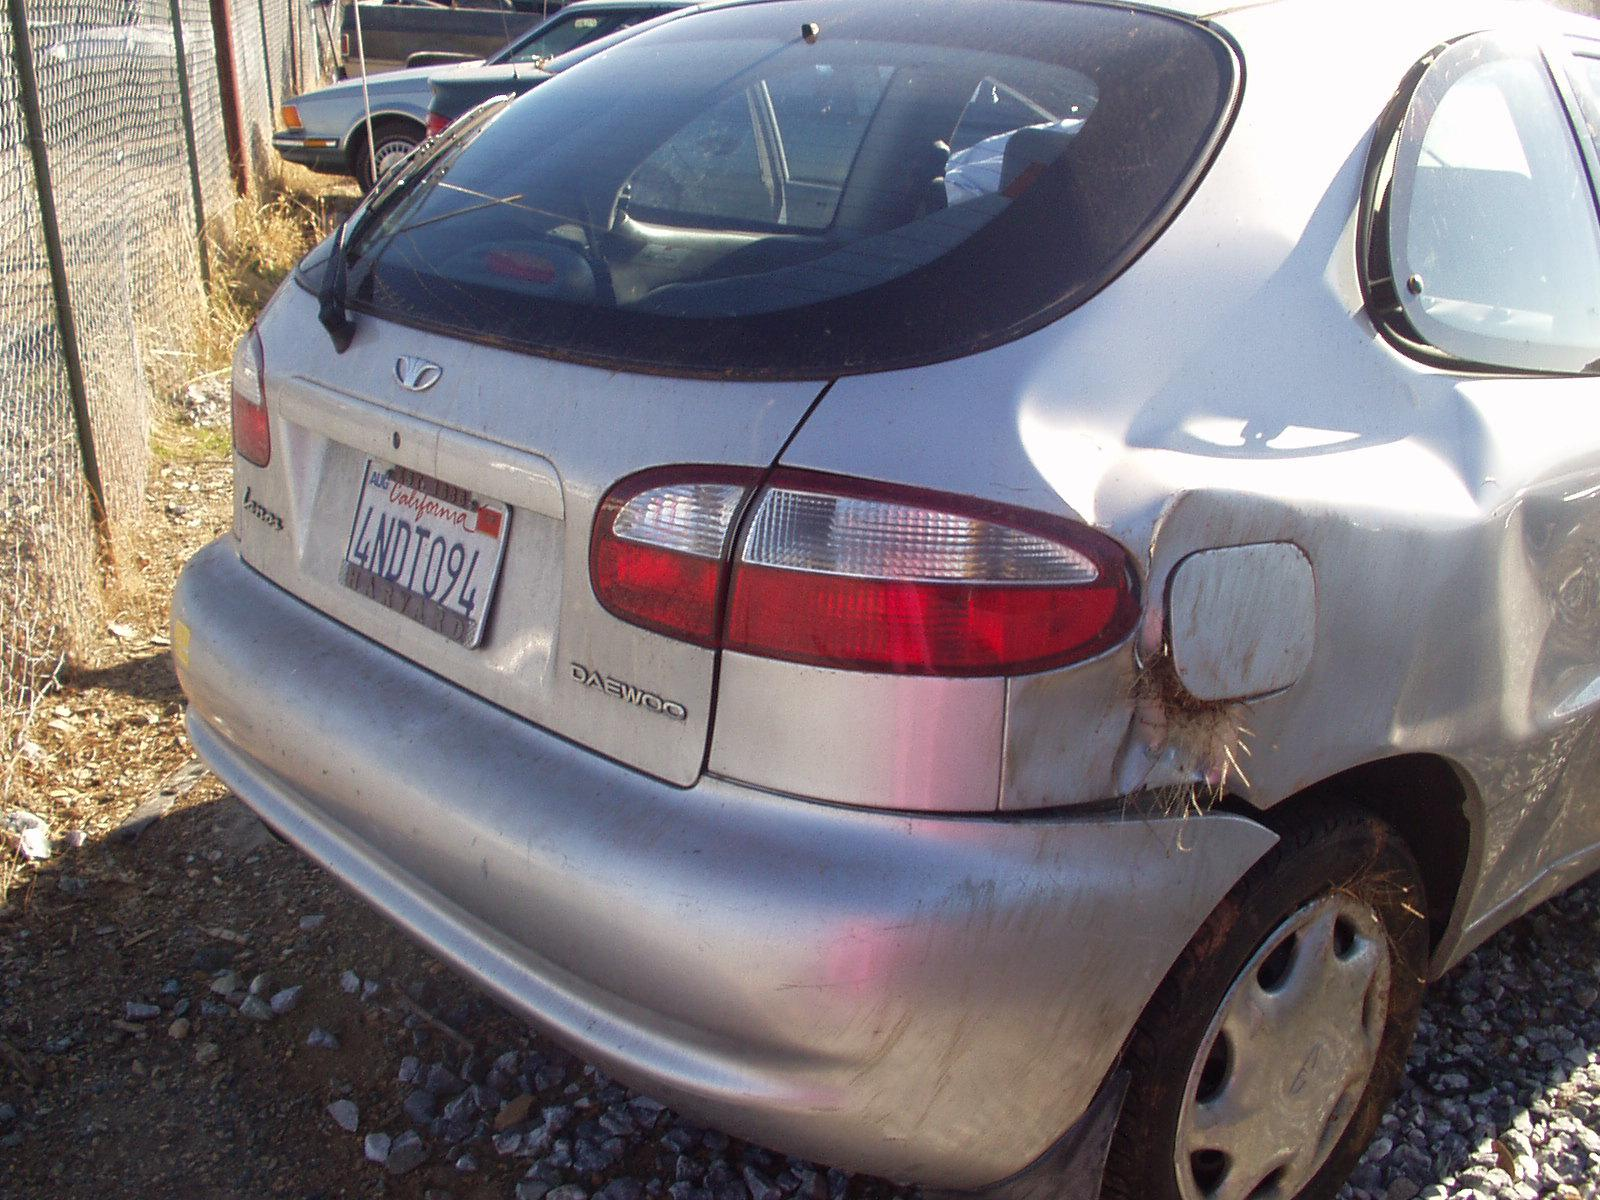quaterpanel-dent: (1107, 292, 1527, 866)
